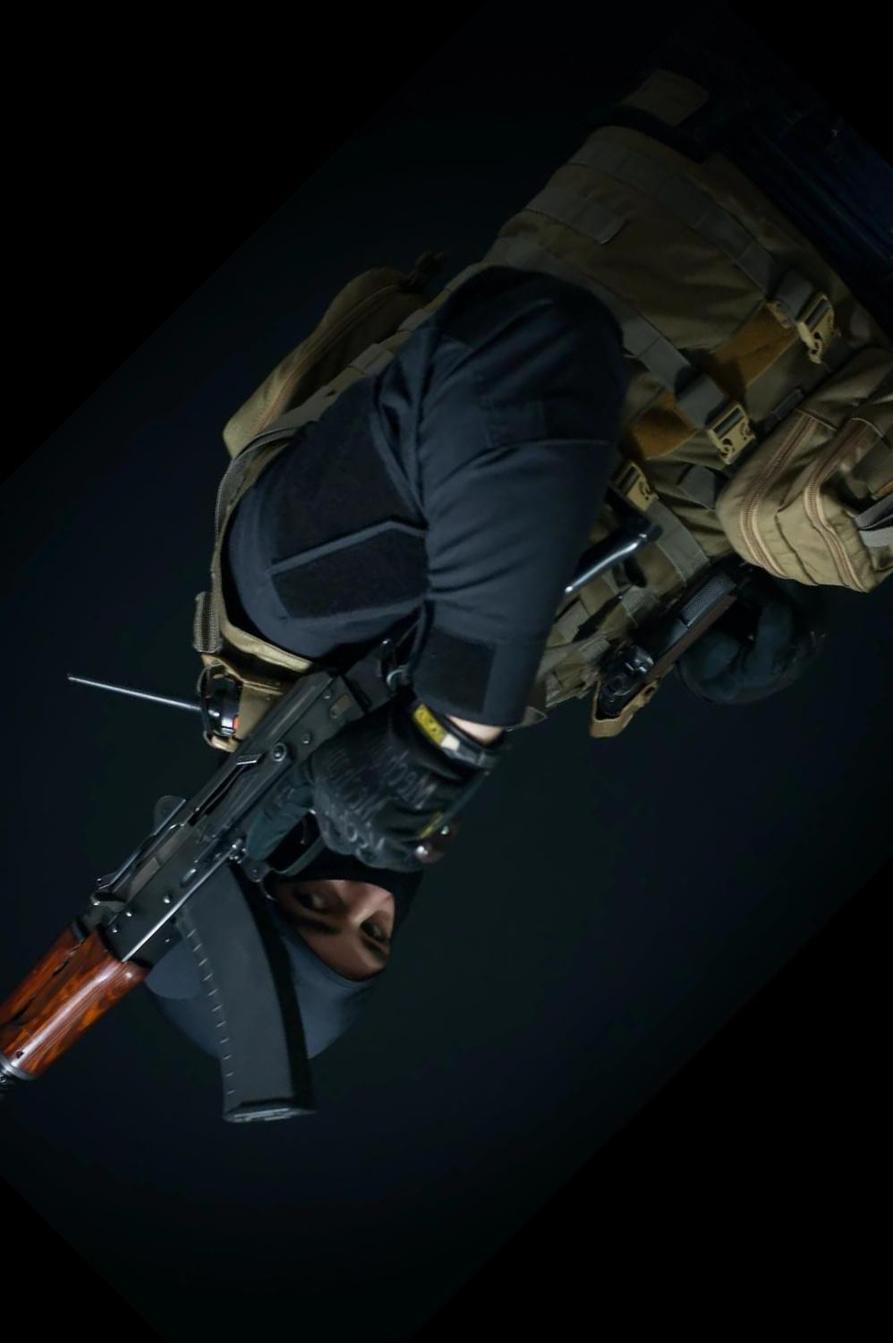larga: (0, 469, 666, 1130)
